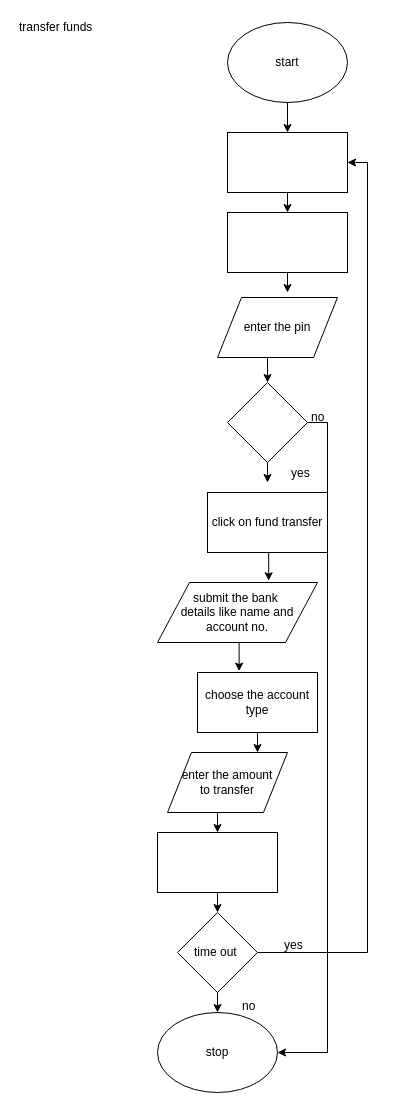
Image size: 393x1110. Some labels were removed from this diagram. The shapes that lost their labels are listed below. From the top down, each one's centre as x and y in pixels, then its label:
At point (287, 162): "insert the card".
At point (287, 242): "select the language".
At point (267, 422): "valid".
At point (217, 862): "confirm the amount".
